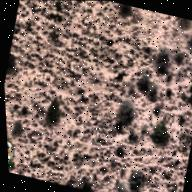boar: (111, 66, 133, 87)
